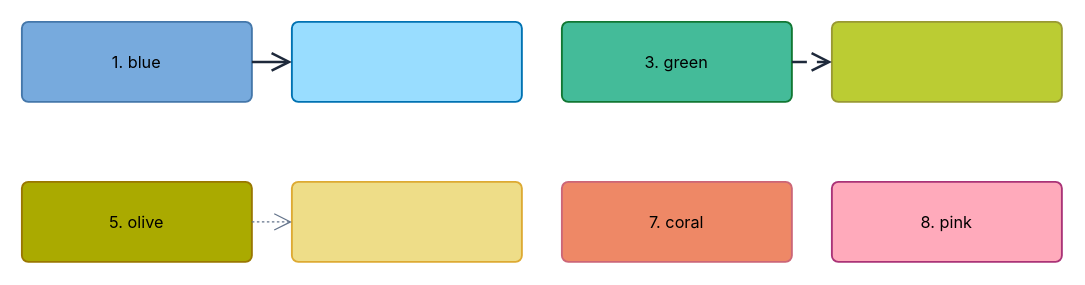
This 1085x285 diagram has some shape labels left out. The shapes that lost their labels are listed below. From the top down, each one's box as (x1, y1, x2, y2) in pixels, then its label:
(290, 20, 522, 102): 2. cyan
(830, 20, 1062, 102): 4. yellow-green
(290, 180, 522, 262): 6. sand
